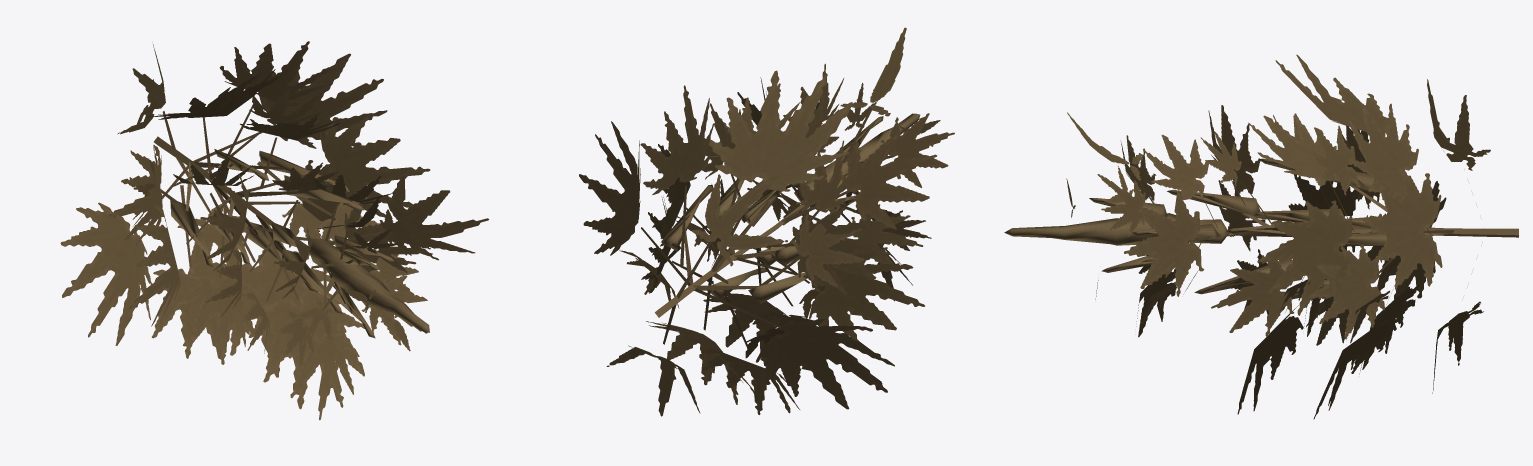
File: p_haze_flowering_c3_cards.obj
3 renders of one model, left to right at view 1: azimuth 30°, elevation 25°; view 2: azimuth 150°, elevation 25°; view 3: azimuth 270°, elevation 25°, orthographic. The views are drawn at different scales.
Size of the model in its own units: 1.8 by 1.69 by 2.03.
1 material, 1 textured.
